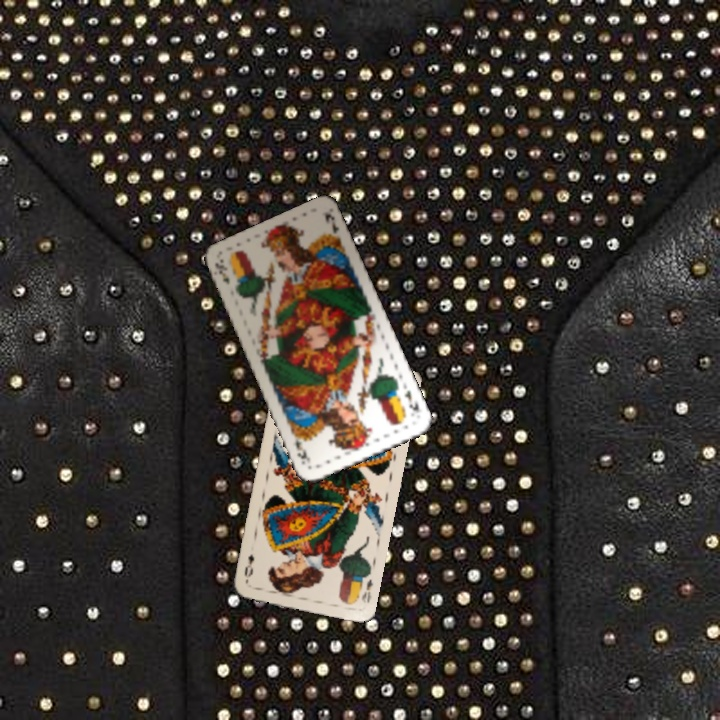EK: (210, 256, 232, 287), (400, 385, 422, 415)
EO: (357, 575, 376, 606)
